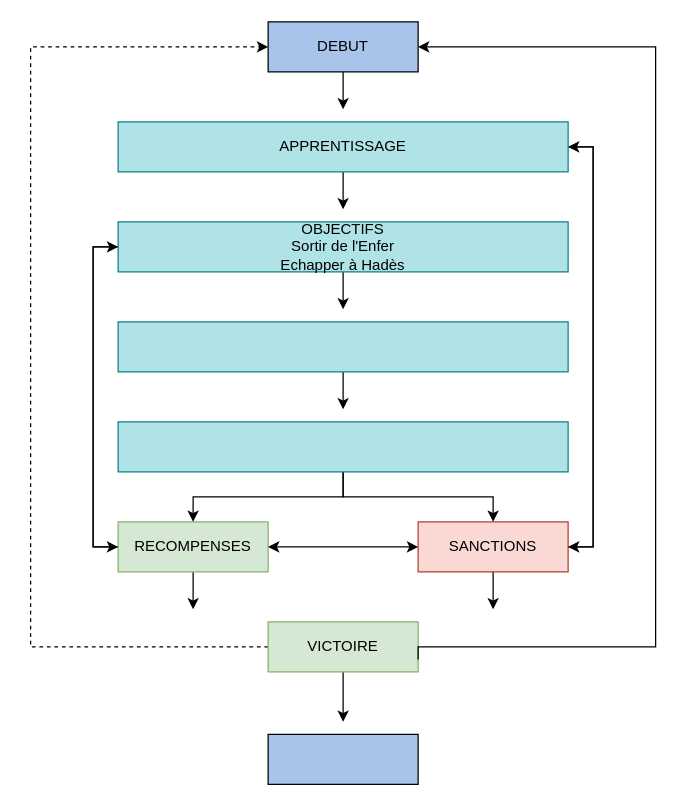
Image size: 688x806. Some labels were removed from this diagram. Each missing label, with the box of its shape:
FIN: (267, 733, 418, 784)
OBSTACLES Les ennemis: (117, 321, 568, 372)
RESSOURCES Les bénédictions Les items (les armes...) La défaite: (117, 421, 568, 472)
